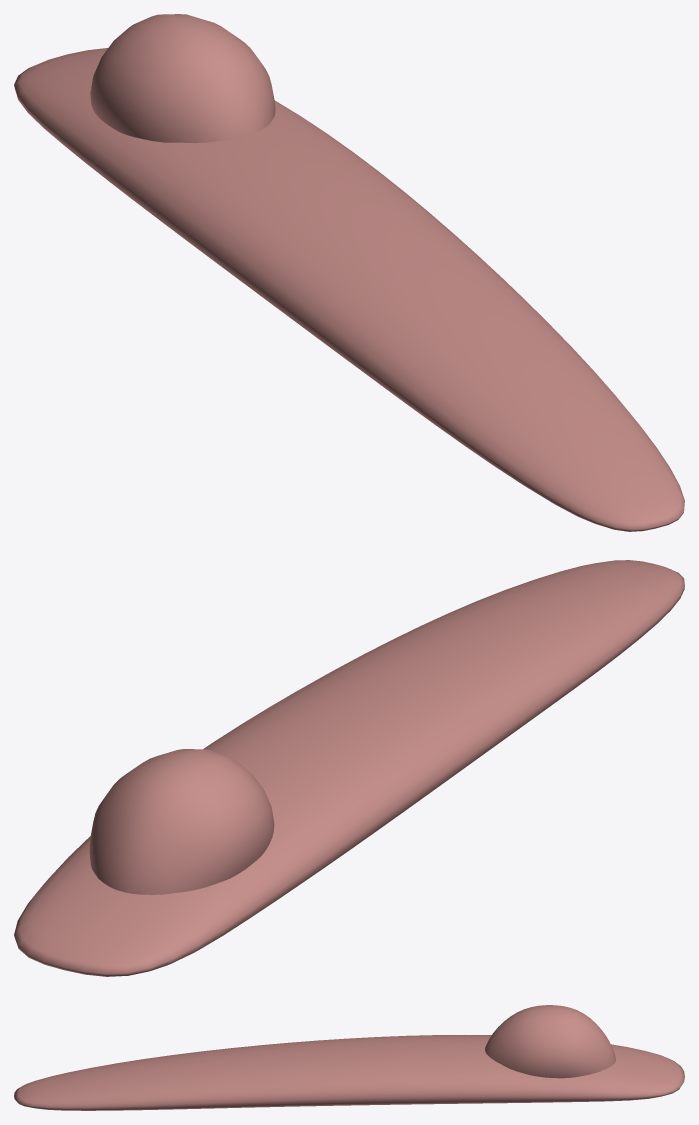
The model's file is Nail Test Meshes.fbx.
The picture shows the model from 3 angles, top to bottom: view 1: azimuth 30°, elevation 25°; view 2: azimuth 150°, elevation 25°; view 3: azimuth 270°, elevation 25°; orthographic projection. The views are drawn at different scales.
Visible parts, largest first — view 1: Nail_01, Nail_00; view 2: Nail_01, Nail_00; view 3: Nail_01, Nail_00.
Part boxes in pixels (left/top/right/bottom): Nail_01: left=14, top=48, right=684, bottom=531; Nail_00: left=90, top=14, right=275, bottom=142; Nail_01: left=14, top=560, right=684, bottom=976; Nail_00: left=89, top=749, right=274, bottom=894; Nail_01: left=14, top=1035, right=684, bottom=1110; Nail_00: left=485, top=1005, right=615, bottom=1078.
Bounding box in the file's own units: 225 × 170 × 1152.
